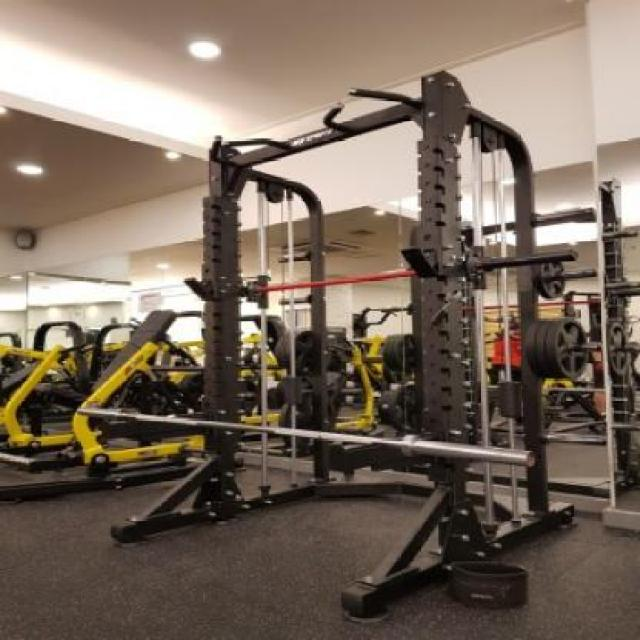smith machine: (189, 70, 577, 624)
